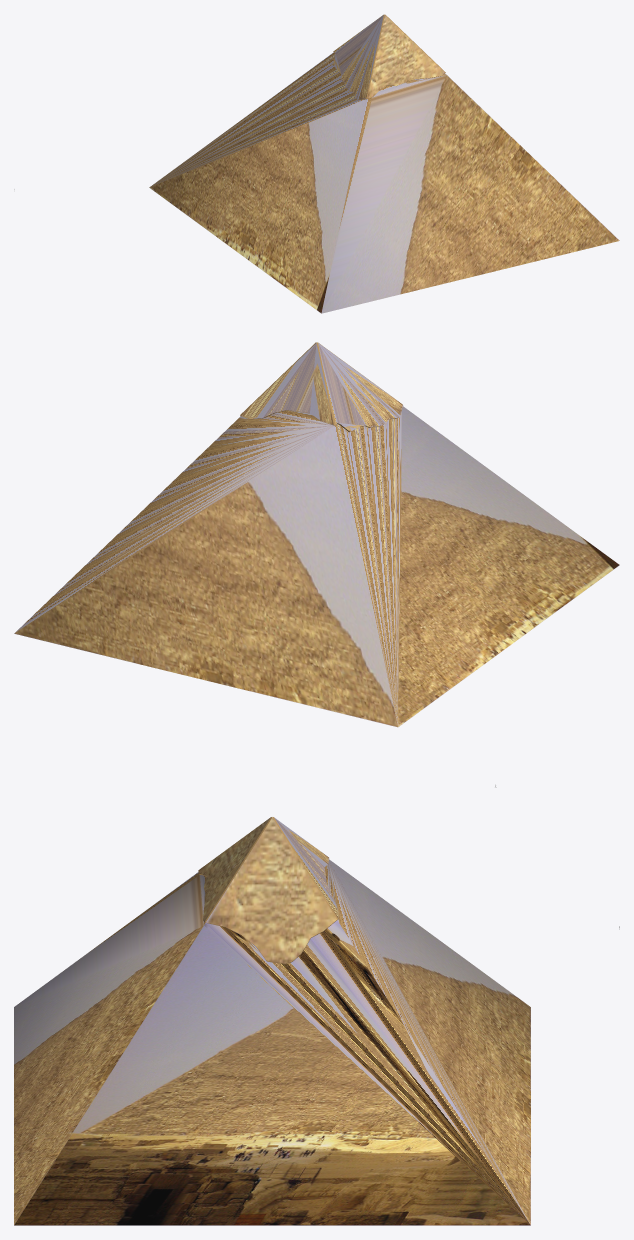
File: piramide_de_giza.obj
3 renders of one model, top to bottom at view 1: azimuth 30°, elevation 25°; view 2: azimuth 150°, elevation 25°; view 3: azimuth 270°, elevation 25°, orthographic. The views are drawn at different scales.
Visible parts, largest first — view 1: piramide_de_giza_Main-Material21, piramide_de_giza_Main-Material23, piramide_de_giza_Main-Material2, piramide_de_giza_Main-Material24; view 2: piramide_de_giza_Main-Material22, piramide_de_giza_Main-Material23, piramide_de_giza_Main-Material24, piramide_de_giza_Main-Material25; view 3: piramide_de_giza_Main-Material26, piramide_de_giza_Main-Material22, piramide_de_giza_Main-Material21, piramide_de_giza_Main-Material2, piramide_de_giza_Main-Material25, piramide_de_giza_Main-DarkGoldenrod1.
Boxes of the visible parts, box(x1,y1,x2,y2) form: piramide_de_giza_Main-Material21: box(321, 73, 619, 313); piramide_de_giza_Main-Material23: box(149, 52, 366, 313); piramide_de_giza_Main-Material2: box(367, 15, 444, 98); piramide_de_giza_Main-Material24: box(333, 15, 383, 99); piramide_de_giza_Main-Material22: box(14, 410, 397, 727); piramide_de_giza_Main-Material23: box(334, 406, 619, 727); piramide_de_giza_Main-Material24: box(318, 343, 403, 431); piramide_de_giza_Main-Material25: box(240, 343, 333, 425); piramide_de_giza_Main-Material26: box(14, 920, 530, 1225); piramide_de_giza_Main-Material22: box(324, 859, 530, 1225); piramide_de_giza_Main-Material21: box(14, 872, 206, 1224); piramide_de_giza_Main-Material2: box(198, 817, 336, 963); piramide_de_giza_Main-Material25: box(274, 817, 339, 918); piramide_de_giza_Main-DarkGoldenrod1: box(199, 817, 338, 963).
Size of the model in its own units: 285 by 134 by 247.
10 materials, 7 textured.
